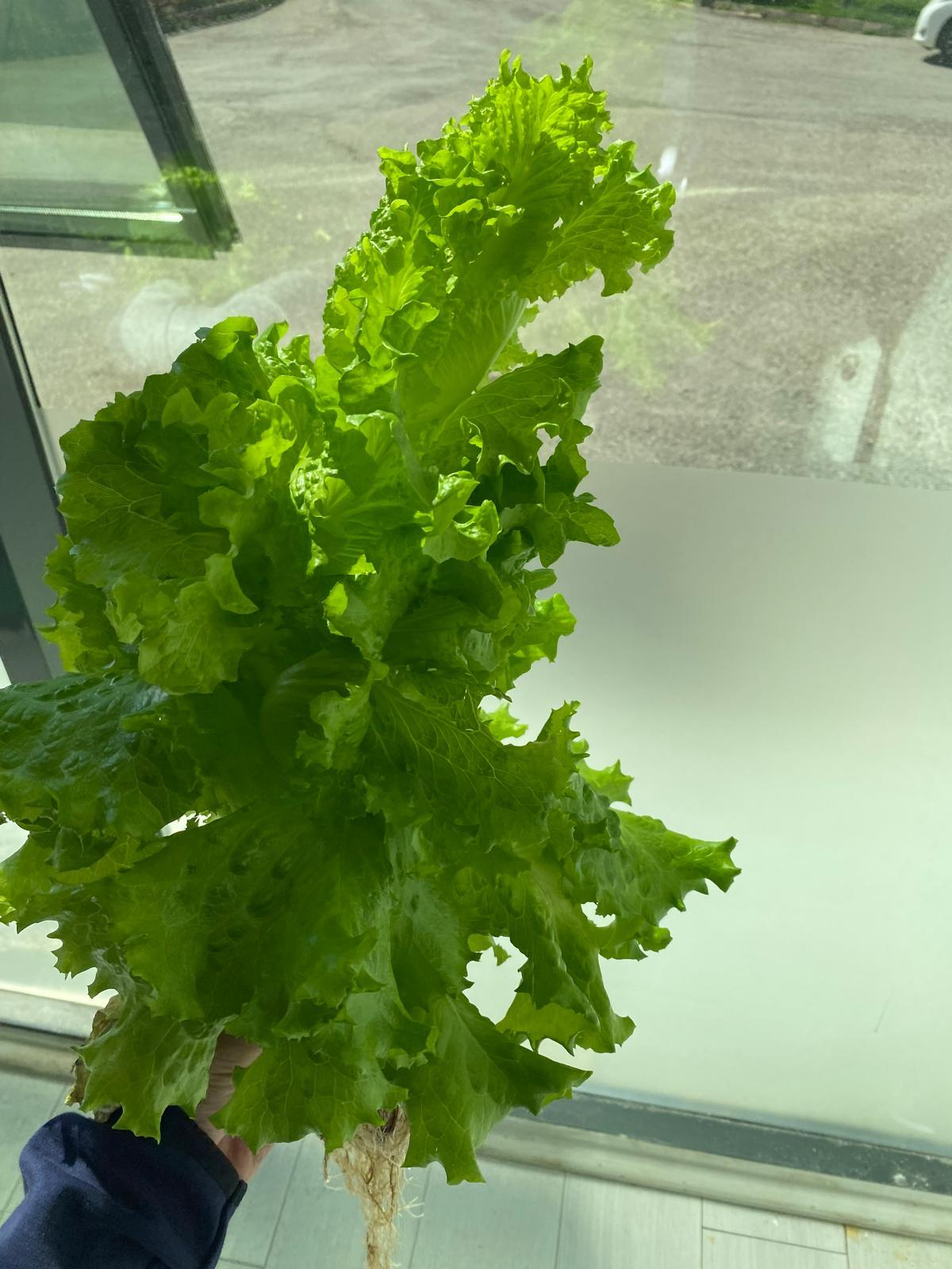Healthy: (0, 59, 763, 1179)
